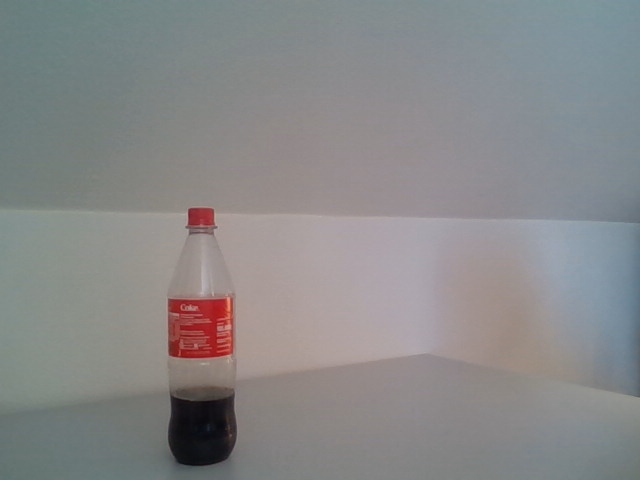bottle: (166, 206, 238, 467)
